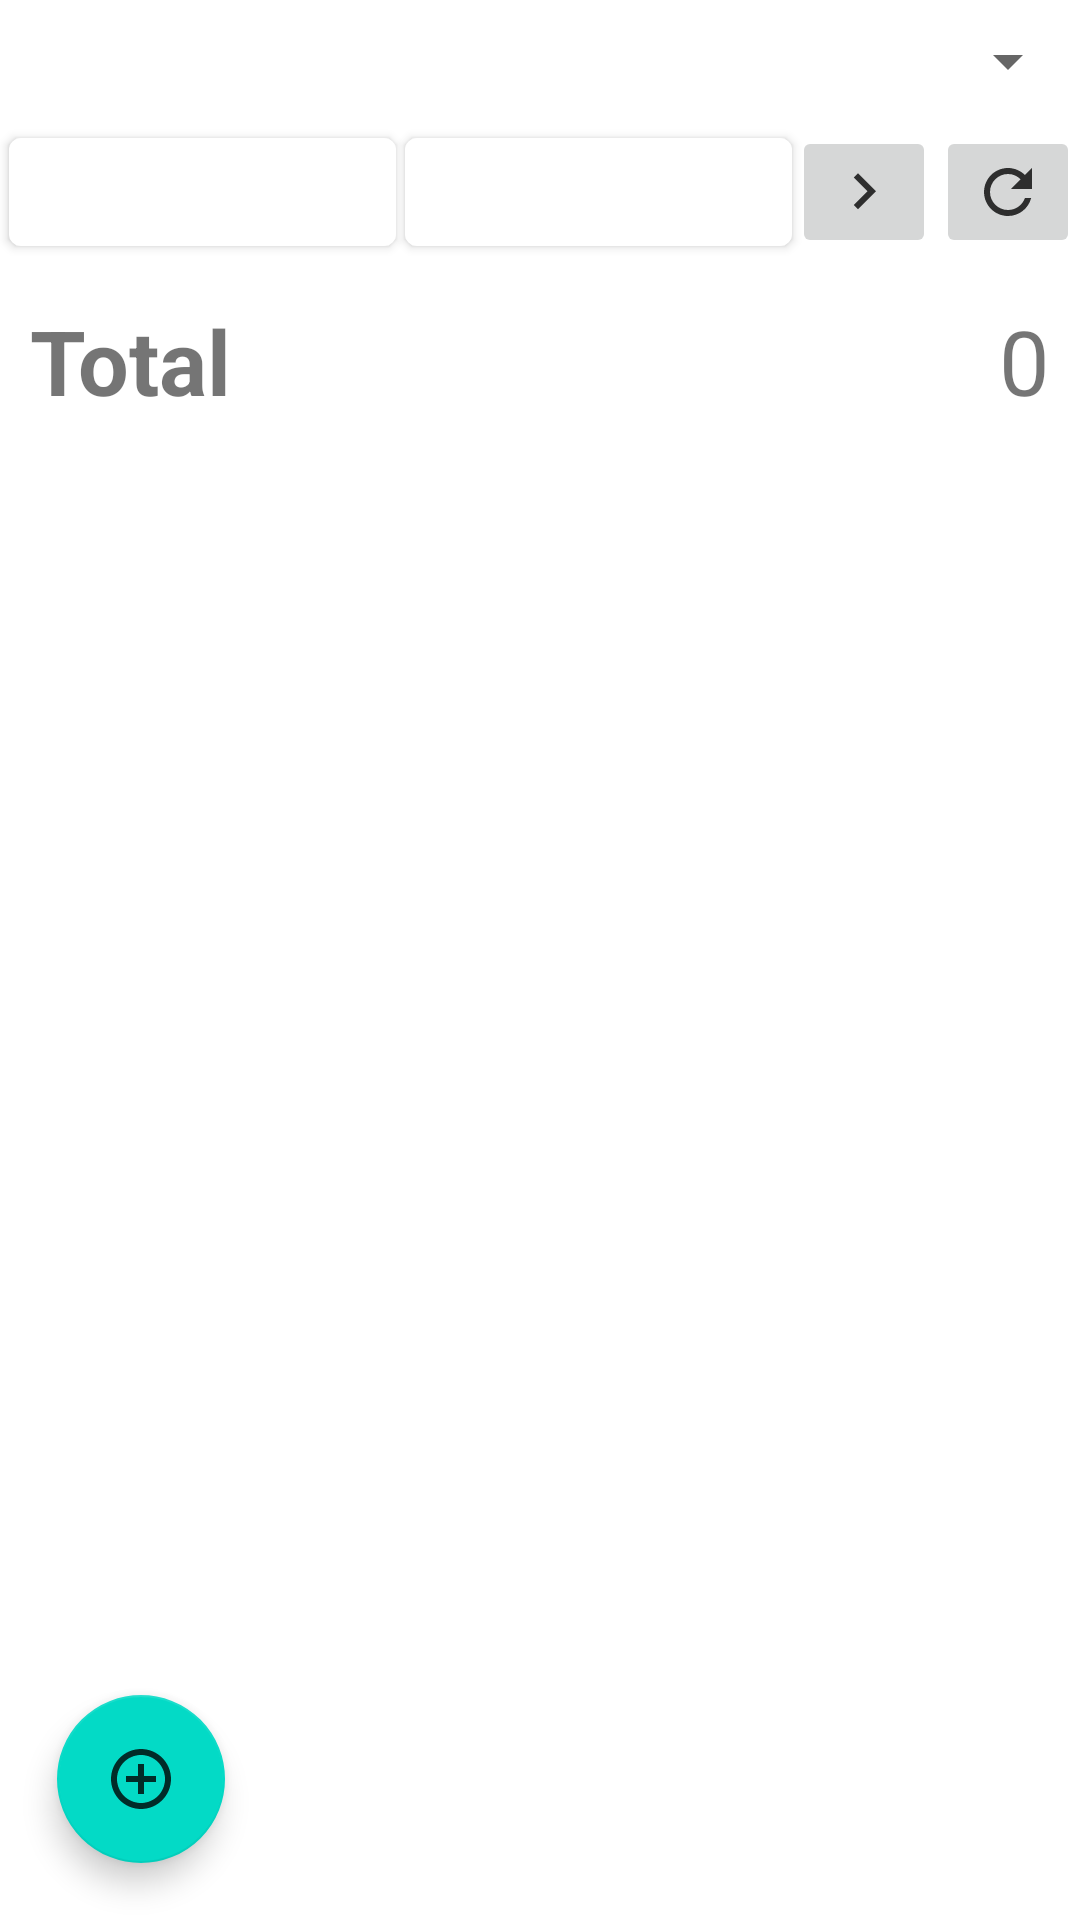

Locate icon controls on the screen. Image size 1080×1920, boxes as (x1, y1, x2, y2).
arrow: (804, 144, 924, 240)
expense: (57, 1695, 225, 1863)
reset: (948, 144, 1068, 240)
